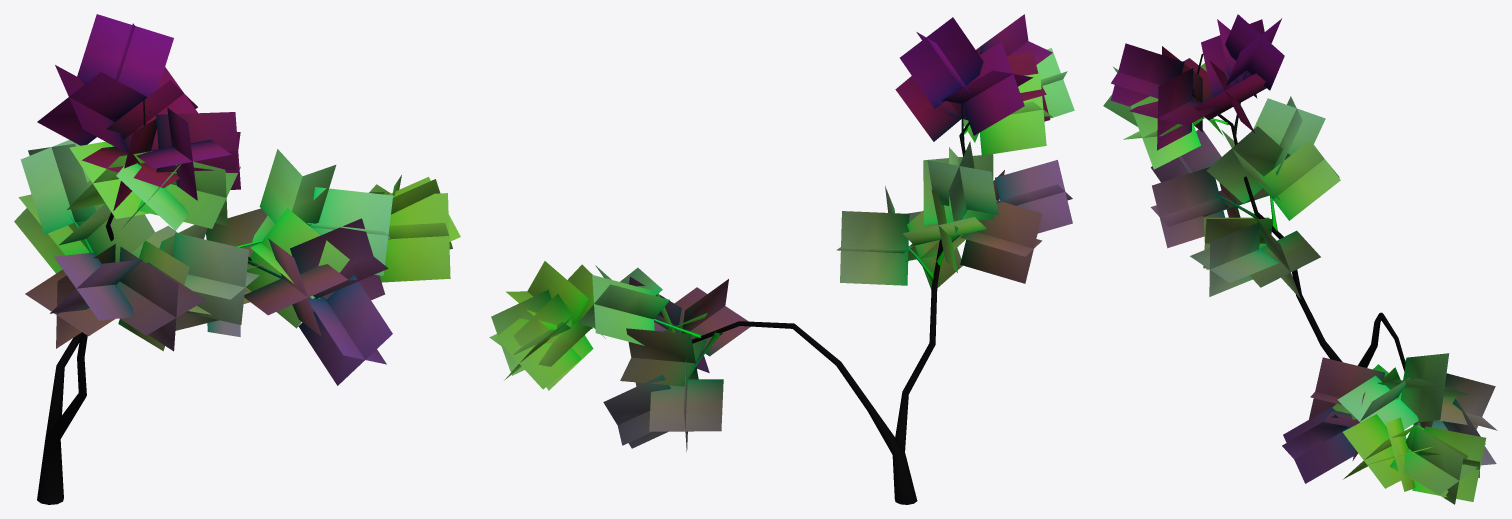
Rendered from URP_P5_Tree_8_LOD_2.fbx.
The picture shows the model from 3 angles, left to right: view 1: azimuth 30°, elevation 25°; view 2: azimuth 150°, elevation 25°; view 3: azimuth 270°, elevation 25°; orthographic projection. The views are drawn at different scales.
Visible parts, largest first — view 1: Tree_8_LOD_2; view 2: Tree_8_LOD_2; view 3: Tree_8_LOD_2.
Boxes of the visible parts, x1,y1,x2,y2 form: Tree_8_LOD_2: (14,14,460,504); Tree_8_LOD_2: (489,14,1074,504); Tree_8_LOD_2: (1103,14,1497,504).
Bounding box in the file's own units: 609 × 562 × 482.
